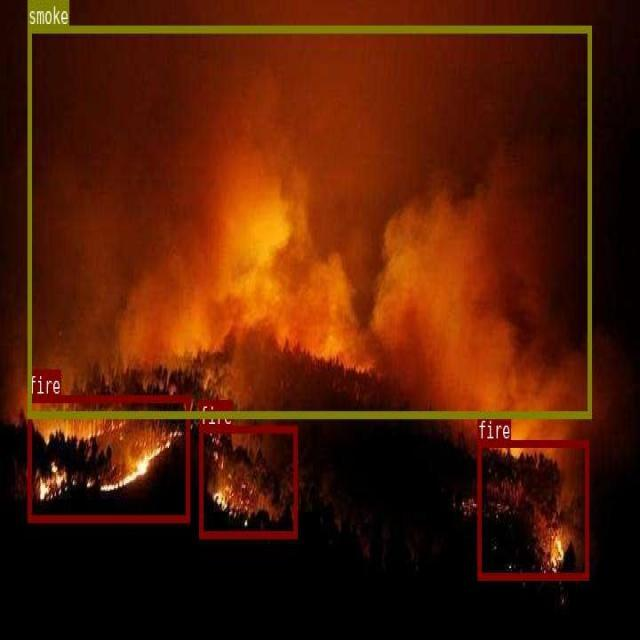fire: (27, 394, 189, 521), (477, 439, 588, 579), (199, 425, 296, 537)
smoke: (27, 25, 590, 417)
